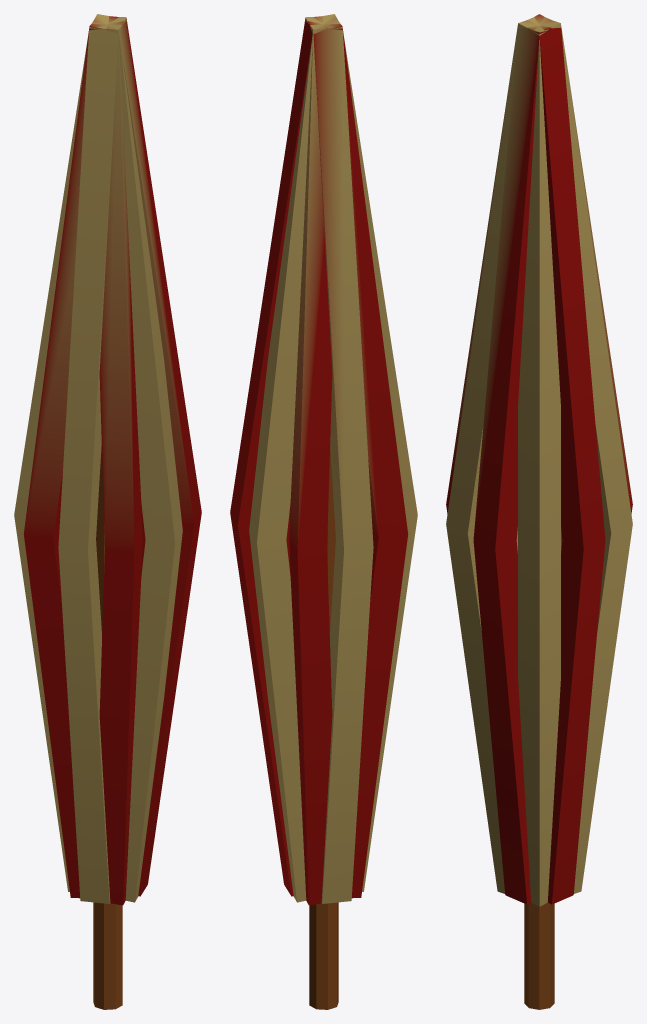
File: hz-umbrella-closed.glb
3 renders of one model, left to right at view 1: azimuth 30°, elevation 25°; view 2: azimuth 150°, elevation 25°; view 3: azimuth 270°, elevation 25°, orthographic.
Visible parts, largest first — view 1: canopy__paper, shaft__bamboo; view 2: canopy__paper, shaft__bamboo; view 3: canopy__paper, shaft__bamboo.
Part boxes in pixels (box(x1,y1,x2,y2)): canopy__paper: box(14, 14, 201, 905); shaft__bamboo: box(93, 446, 122, 1009); canopy__paper: box(230, 14, 417, 905); shaft__bamboo: box(309, 446, 338, 1009); canopy__paper: box(446, 14, 632, 906); shaft__bamboo: box(524, 902, 554, 1009).
Bounding box in the file's own units: 0.18 × 1 × 0.1731.
